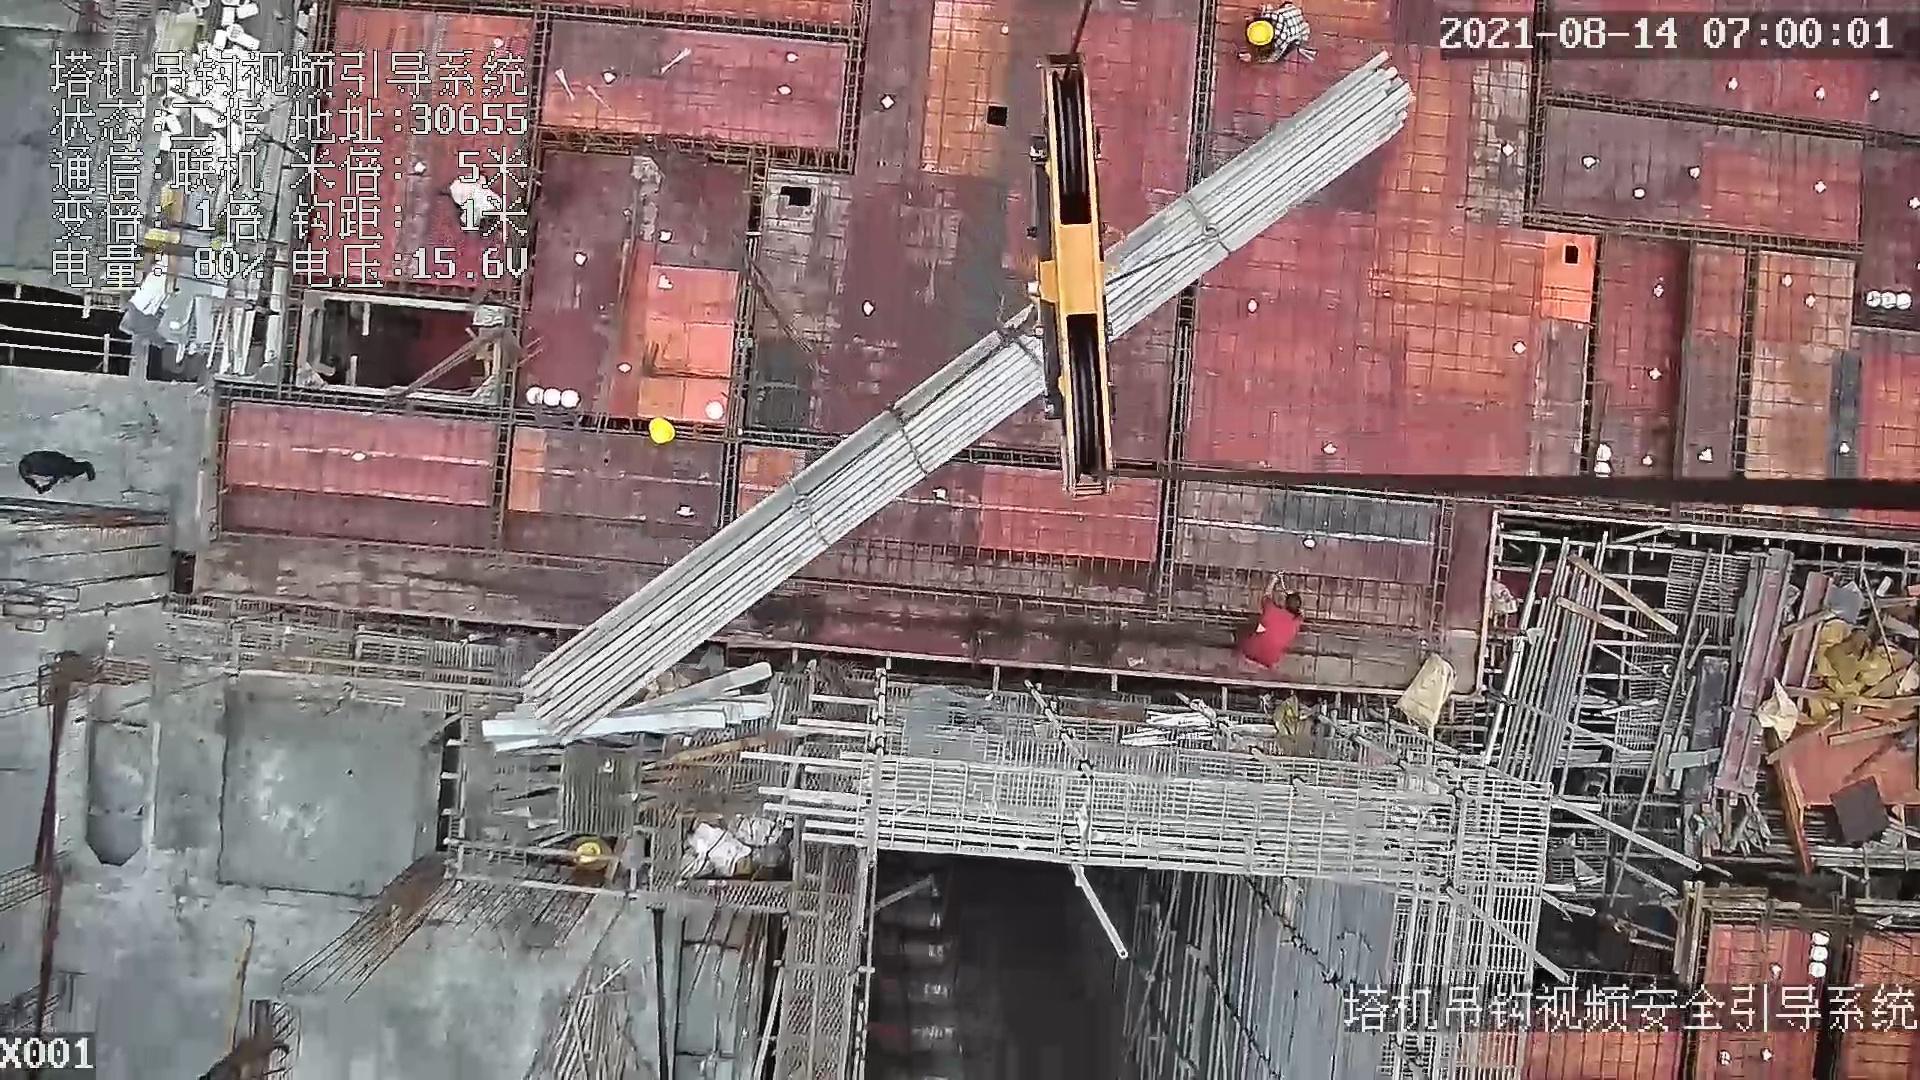helmet: (647, 417, 676, 445), (1246, 20, 1274, 46)
hook: (1010, 51, 1136, 497)
person: (1241, 572, 1309, 677), (1228, 4, 1324, 77), (12, 450, 96, 497)
rebar: (516, 49, 1419, 741)
